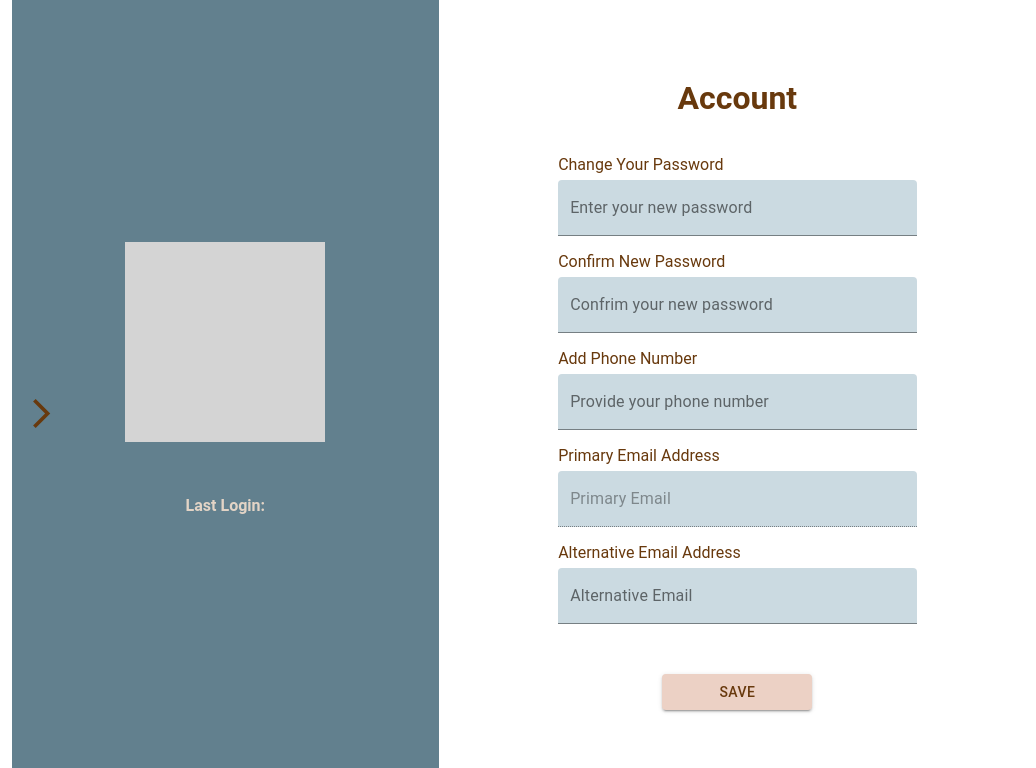
Testing <AccountInfo /> Component › should have confirm password error
Type "12345678" into the password field with id "account-info-password-field" at point(737, 208), box [558,180,916,236]
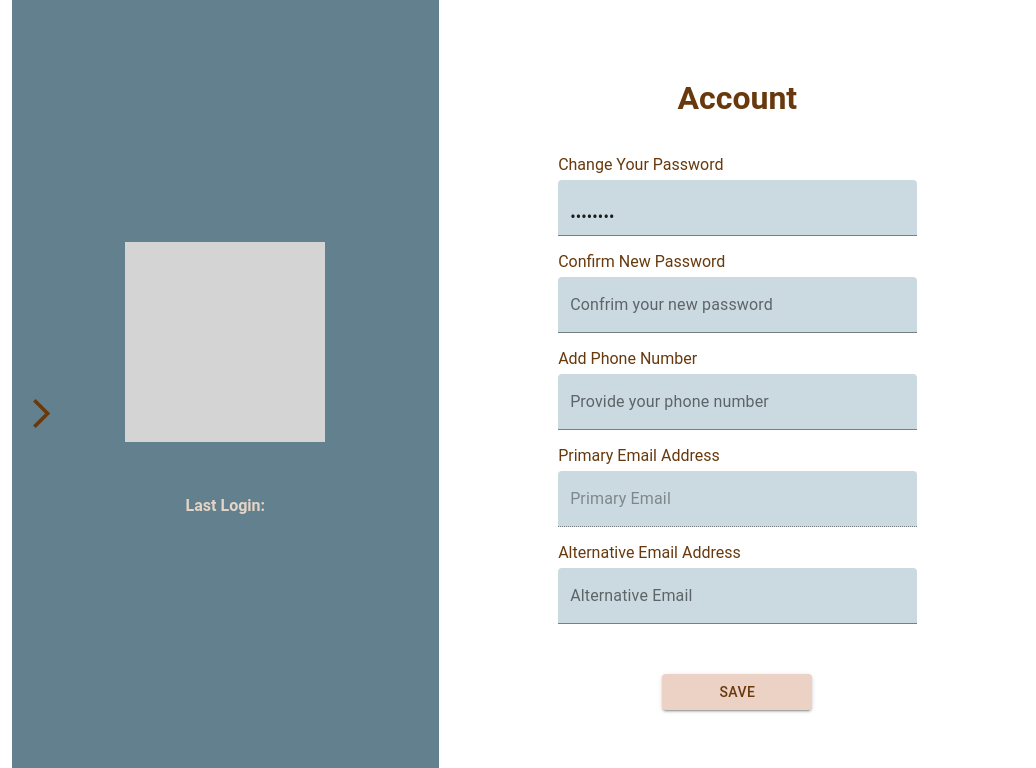
Click the button with class "save-button" at point(737, 692), box [662,674,812,710]
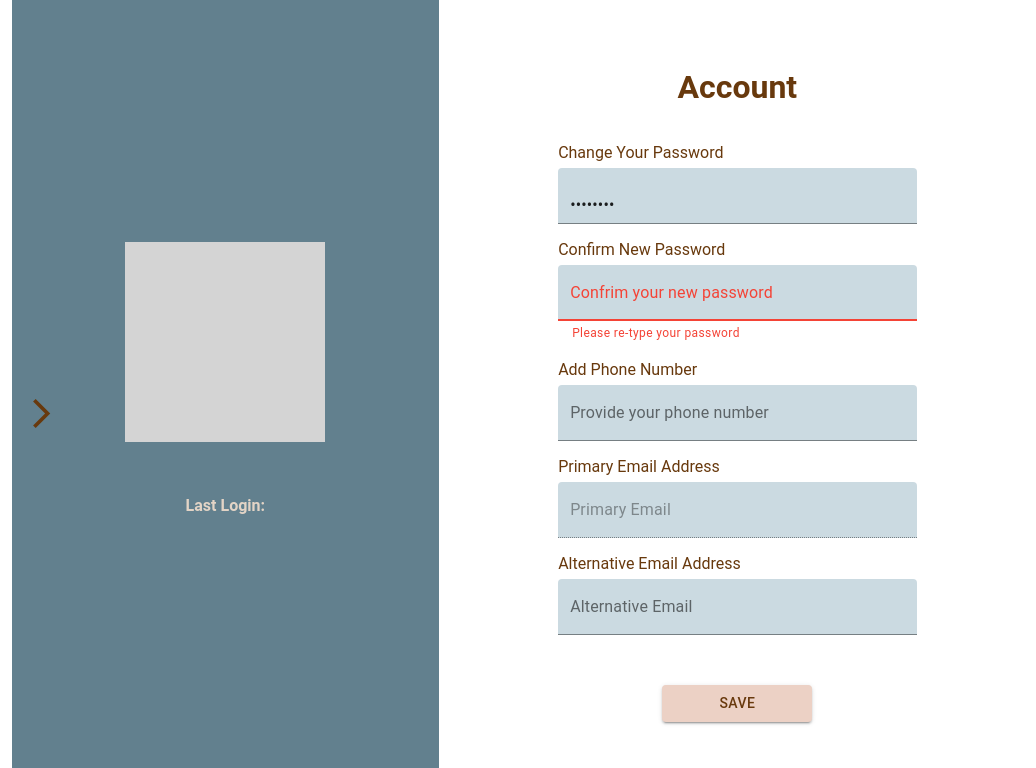
Expected: the text with id "account-info-confirm-password-field-helper-text" reads "Please re-type your password", [572,326,740,340]
